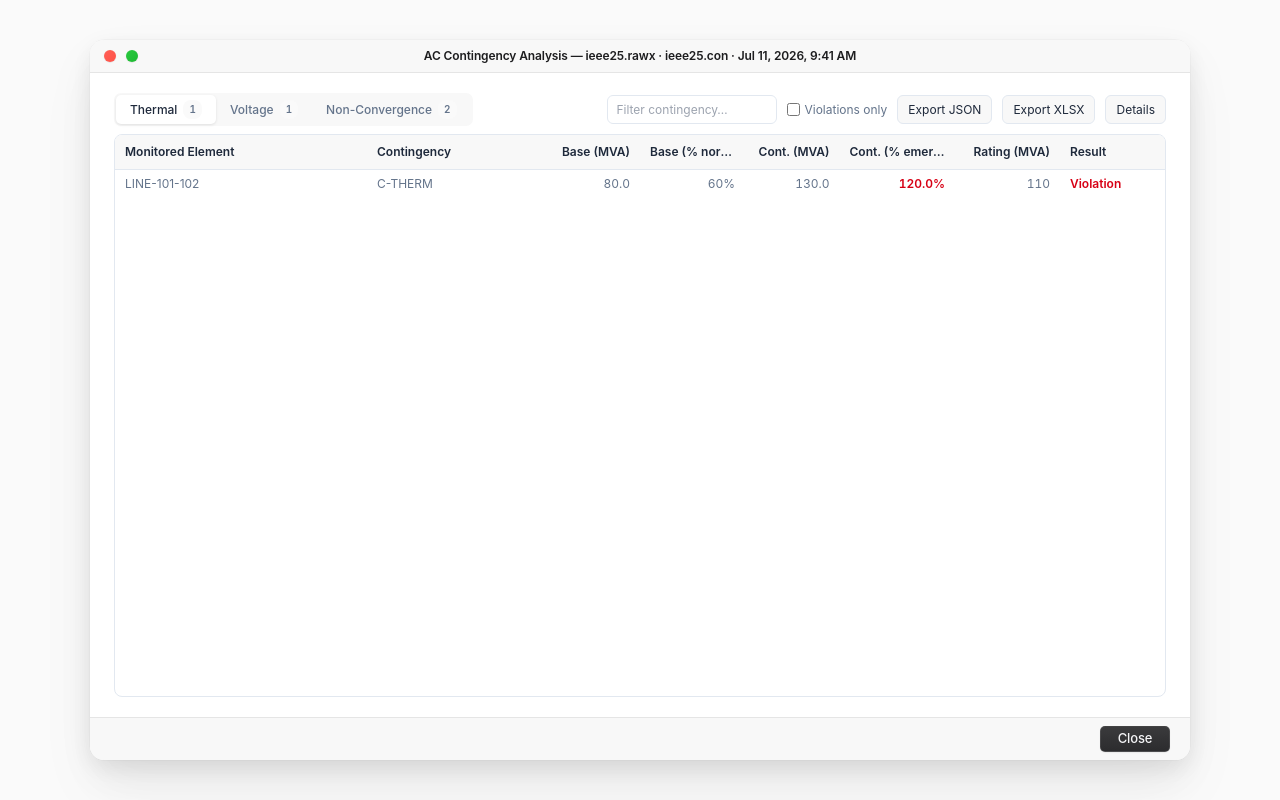
it: name filter and violations-only compose
Expected: the text "Thermal" is shown, [130, 102, 177, 117]
Step 1. Click the checkbox labelled "Violations only" → point(794, 110), box [788, 103, 800, 116]
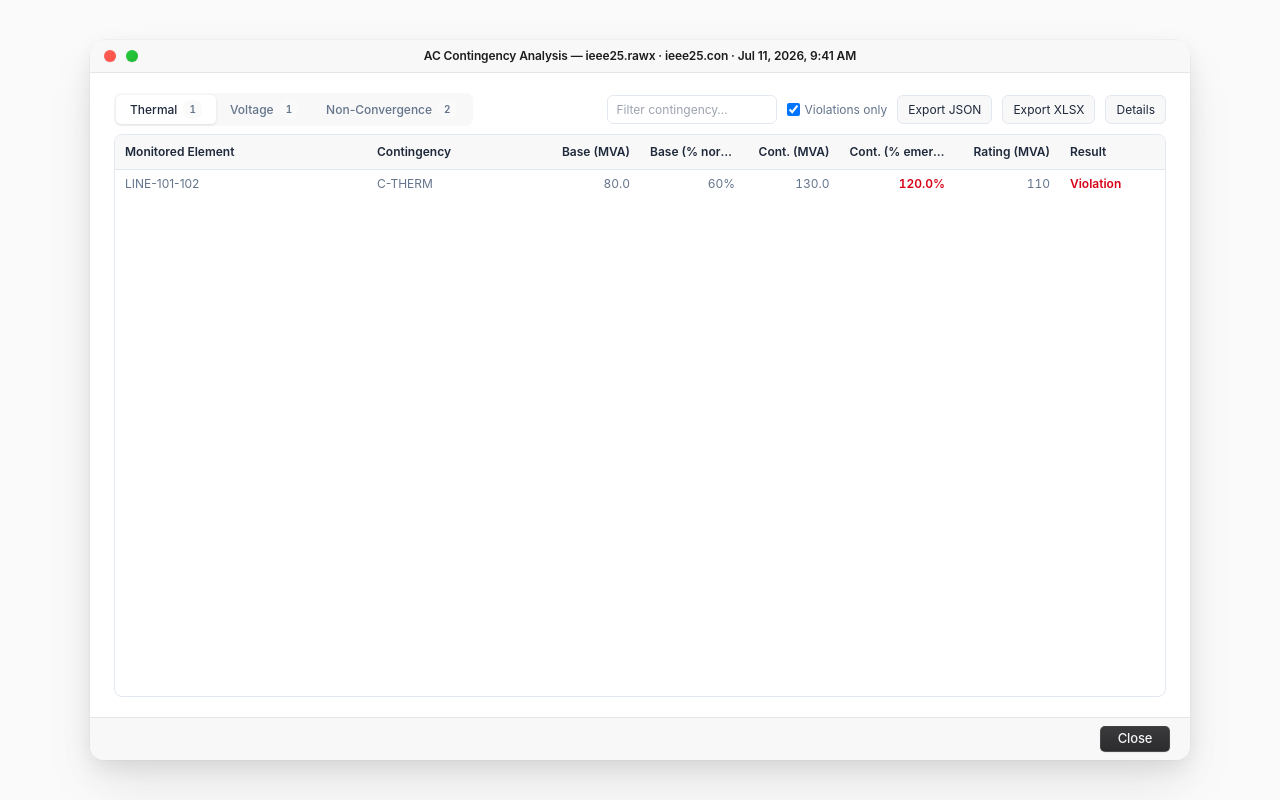
Step 2. Type "C-VOLT" into the field with placeholder "Filter contingency…" → point(692, 110), box [608, 95, 778, 124]
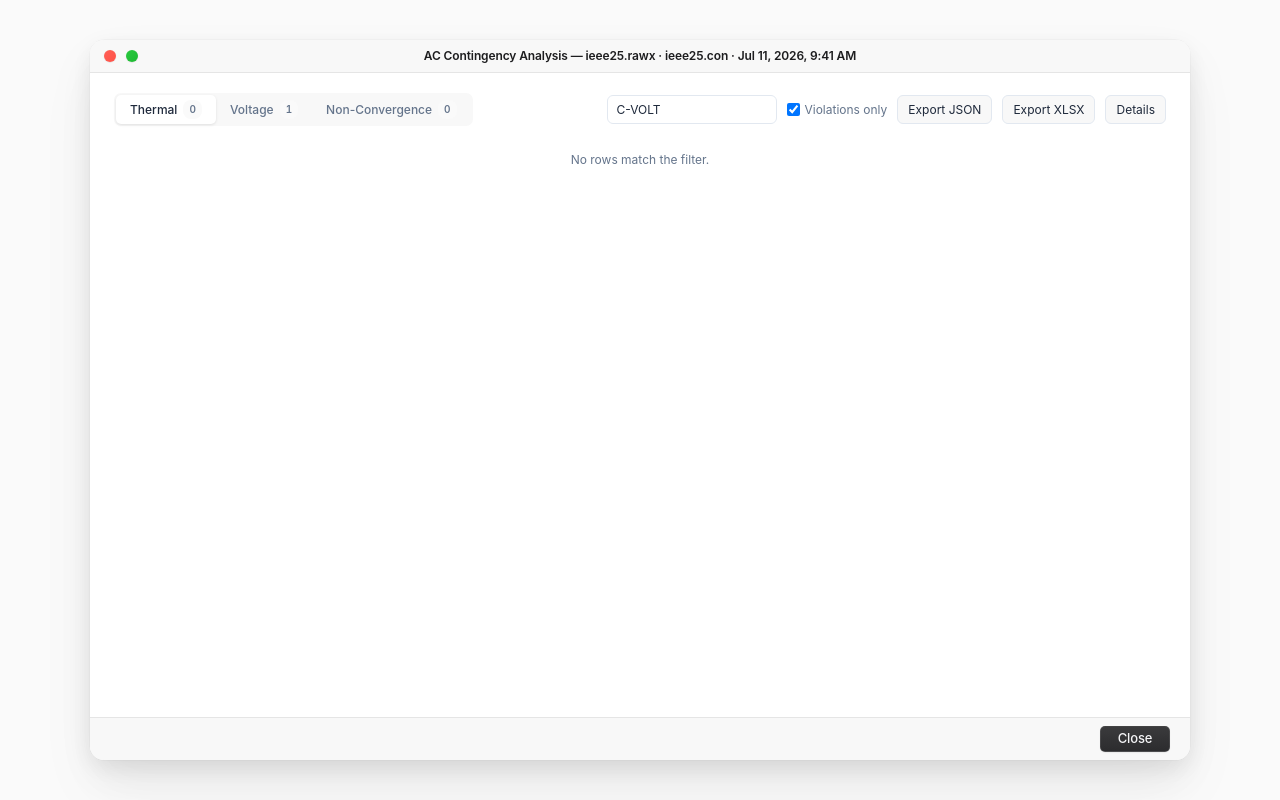
Step 3. Click the tab "Voltage 1" → point(264, 110), box [216, 95, 312, 124]
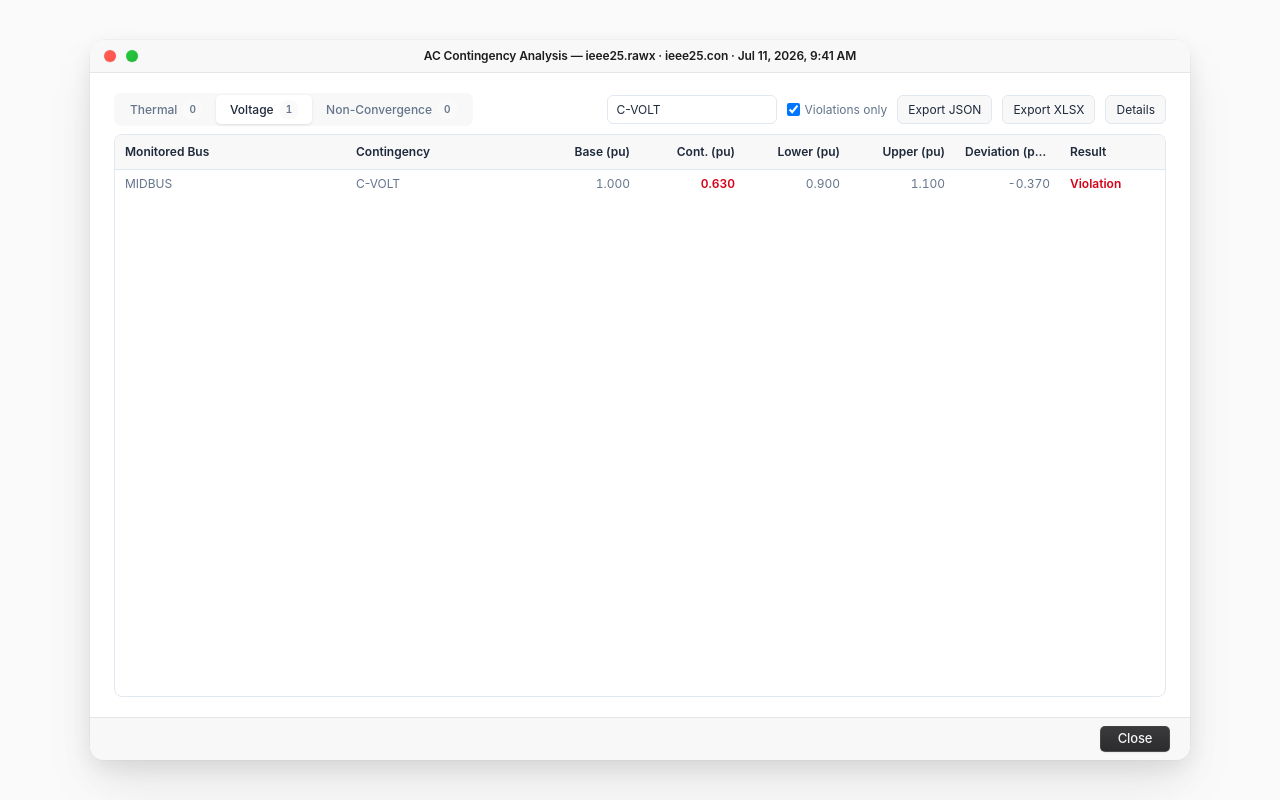
Now the text "MIDBUS" is shown, box [115, 170, 346, 198]
